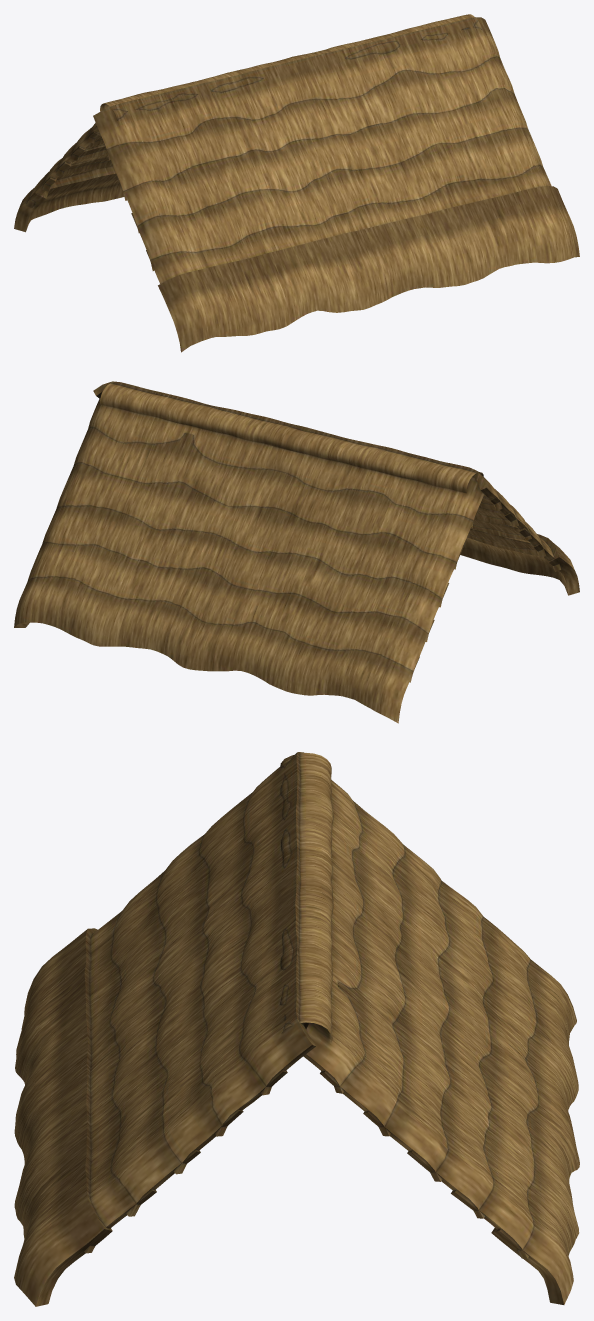
Rendered from home_ext_roof.glb.
The picture shows the model from 3 angles, top to bottom: view 1: azimuth 30°, elevation 25°; view 2: azimuth 150°, elevation 25°; view 3: azimuth 270°, elevation 25°; orthographic projection. The views are drawn at different scales.
Visible parts, largest first — view 1: home_ext_roof; view 2: home_ext_roof; view 3: home_ext_roof.
Boxes of the visible parts, x1,y1,x2,y2 form: home_ext_roof: [14, 14, 579, 352]; home_ext_roof: [14, 381, 579, 723]; home_ext_roof: [14, 752, 579, 1306].
Size of the model in its own units: 11.06 by 4.98 by 8.95.
Materials: 1 (1 with a texture image).
